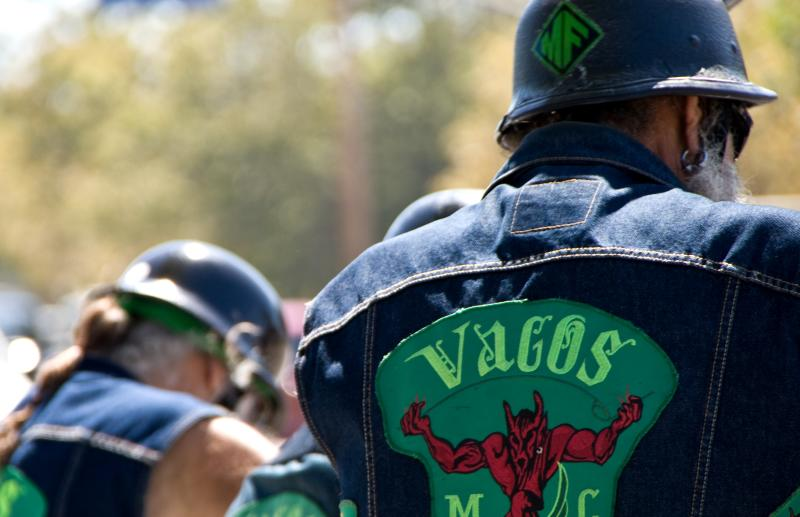helmet: (497, 3, 765, 116), (124, 236, 283, 376)
